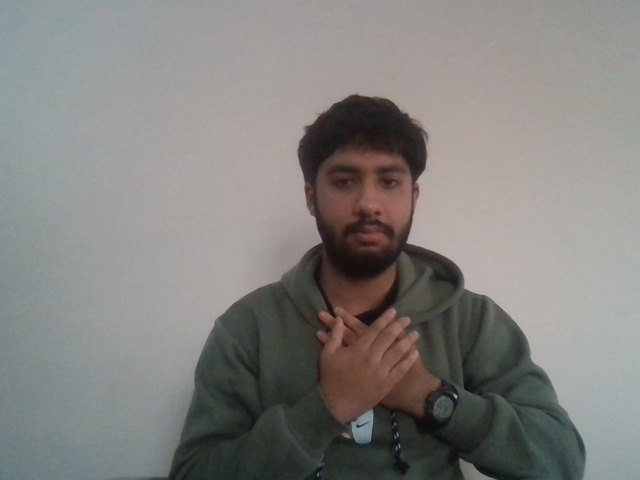Please: (305, 301, 443, 412)
